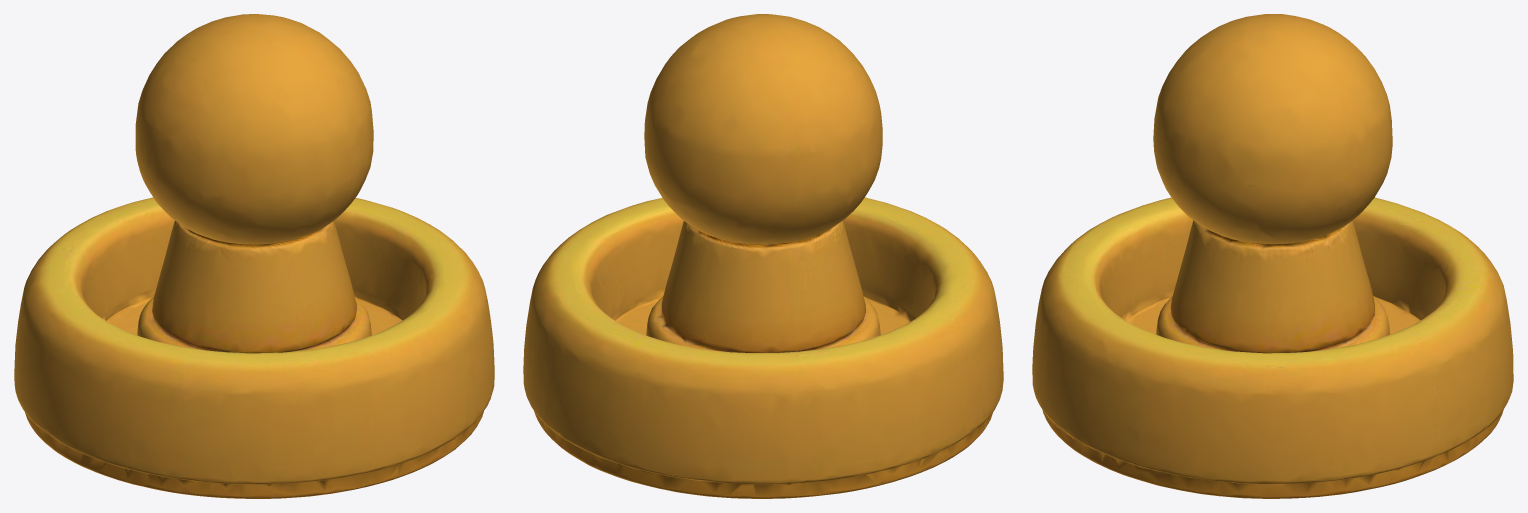
File: mallet-gold.glb
3 views of the same model, side by side, from view 1: azimuth 30°, elevation 25°; view 2: azimuth 150°, elevation 25°; view 3: azimuth 270°, elevation 25° (orthographic).
Parts seen in each view (by area): view 1: tripo_node_62145191-b818-4272-9b73-e2a99b75efc9; view 2: tripo_node_62145191-b818-4272-9b73-e2a99b75efc9; view 3: tripo_node_62145191-b818-4272-9b73-e2a99b75efc9.
Part boxes in pixels (box(x1,y1,x2,y2)): tripo_node_62145191-b818-4272-9b73-e2a99b75efc9: box(14, 14, 494, 498); tripo_node_62145191-b818-4272-9b73-e2a99b75efc9: box(523, 14, 1003, 498); tripo_node_62145191-b818-4272-9b73-e2a99b75efc9: box(1032, 14, 1513, 498).
Bounding box in the file's own units: 0.9999 × 0.8713 × 1.
1 material, 1 textured.
